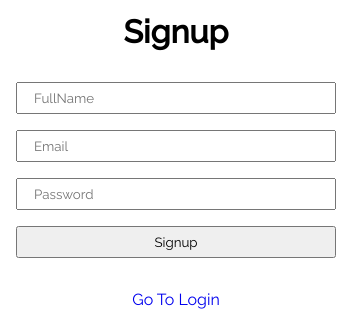
empty spec › signup correctly and redirect to login page
Step 1. Type "Example Example" into the field with placeholder "FullName" → (176,98), box x1=16 y1=82 x2=336 y2=114
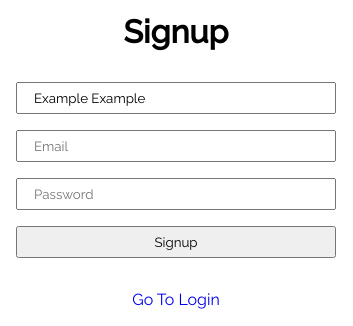
Step 2. Type "example@gmail.com" into the field with placeholder "Email" → (176,146), box x1=16 y1=130 x2=336 y2=162
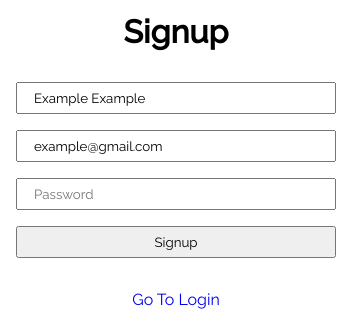
Step 3. Type "123123" into the password field with placeholder "Password" → (176,194), box x1=16 y1=178 x2=336 y2=210
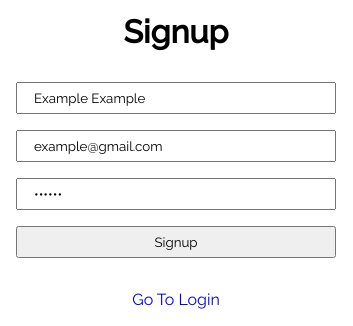
Step 4. Click the button with test id "signup-btn" → (176,242), box x1=16 y1=226 x2=336 y2=258
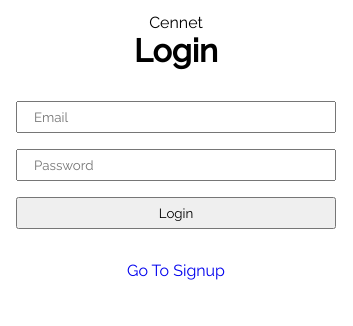
Check: the heading "Login" is shown, box x1=134 y1=32 x2=218 y2=69
